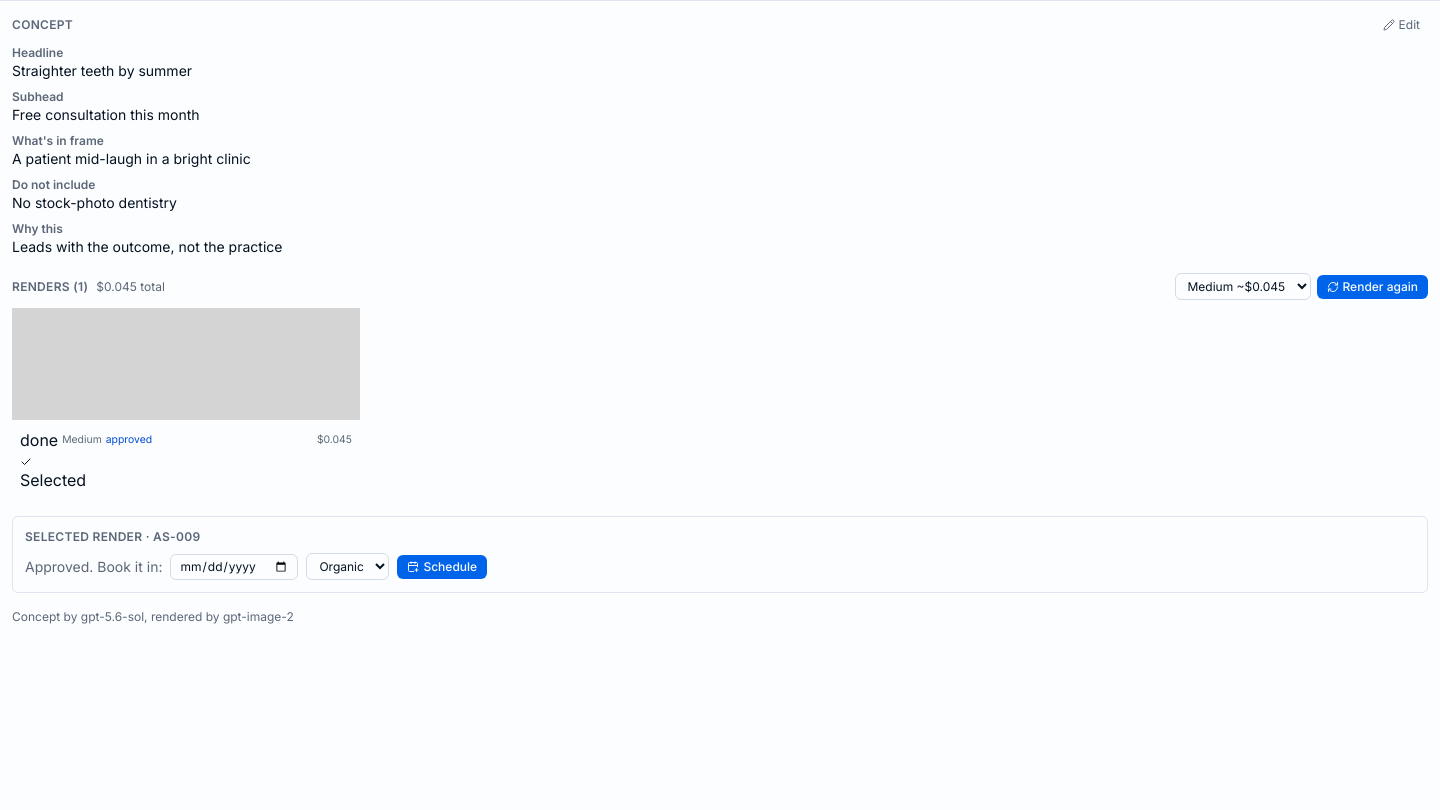
Test: ConceptWorkspace — approve and schedule › shows the paid blocker and disables scheduling when paid is selected
The width and height of the screenshot is (1440, 810).
Type "2026-10-01" into the date field at x=234, y=566, box [170,554,298,580]
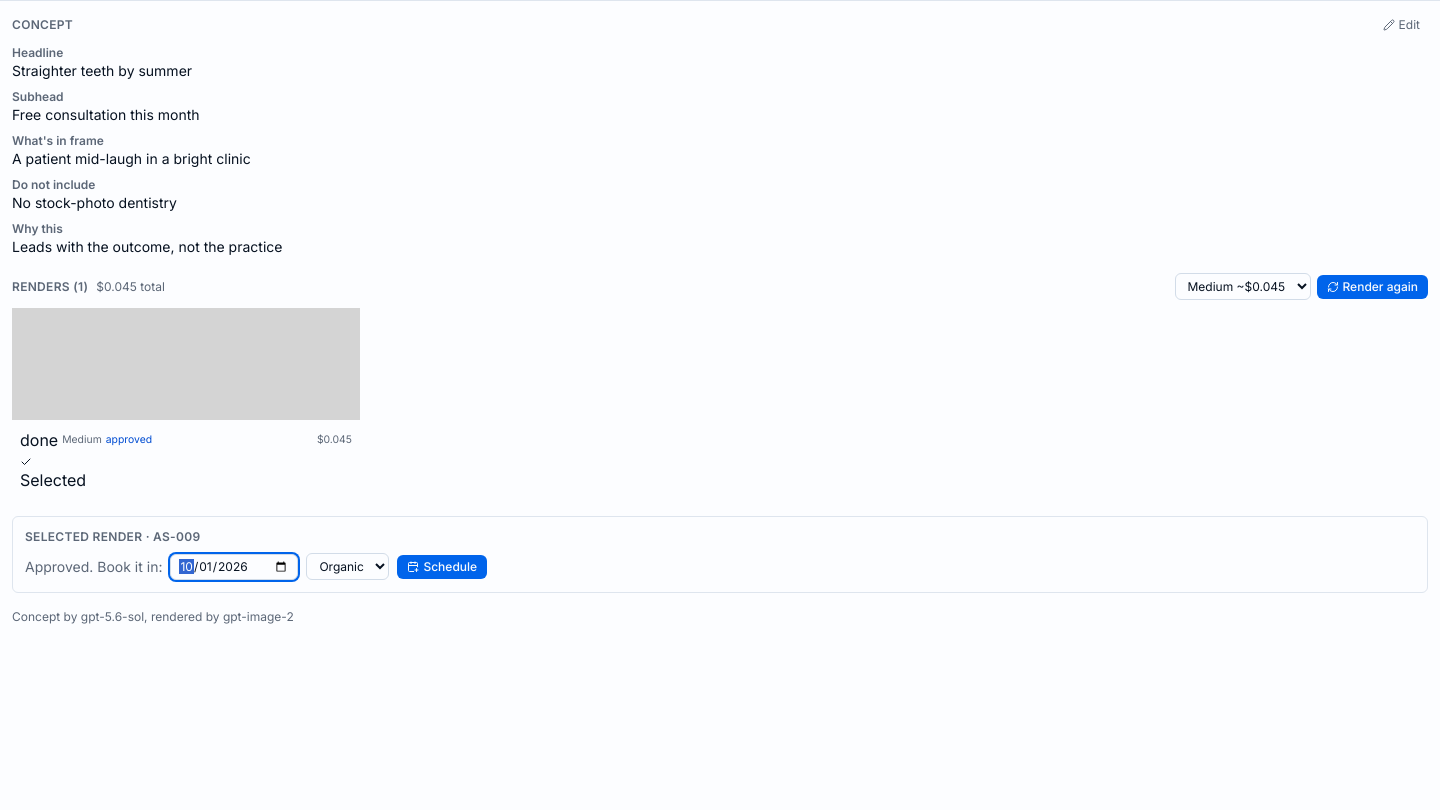
Select "Paid" in the dropdown named "Channel" at x=348, y=566, box [306,553,389,580]
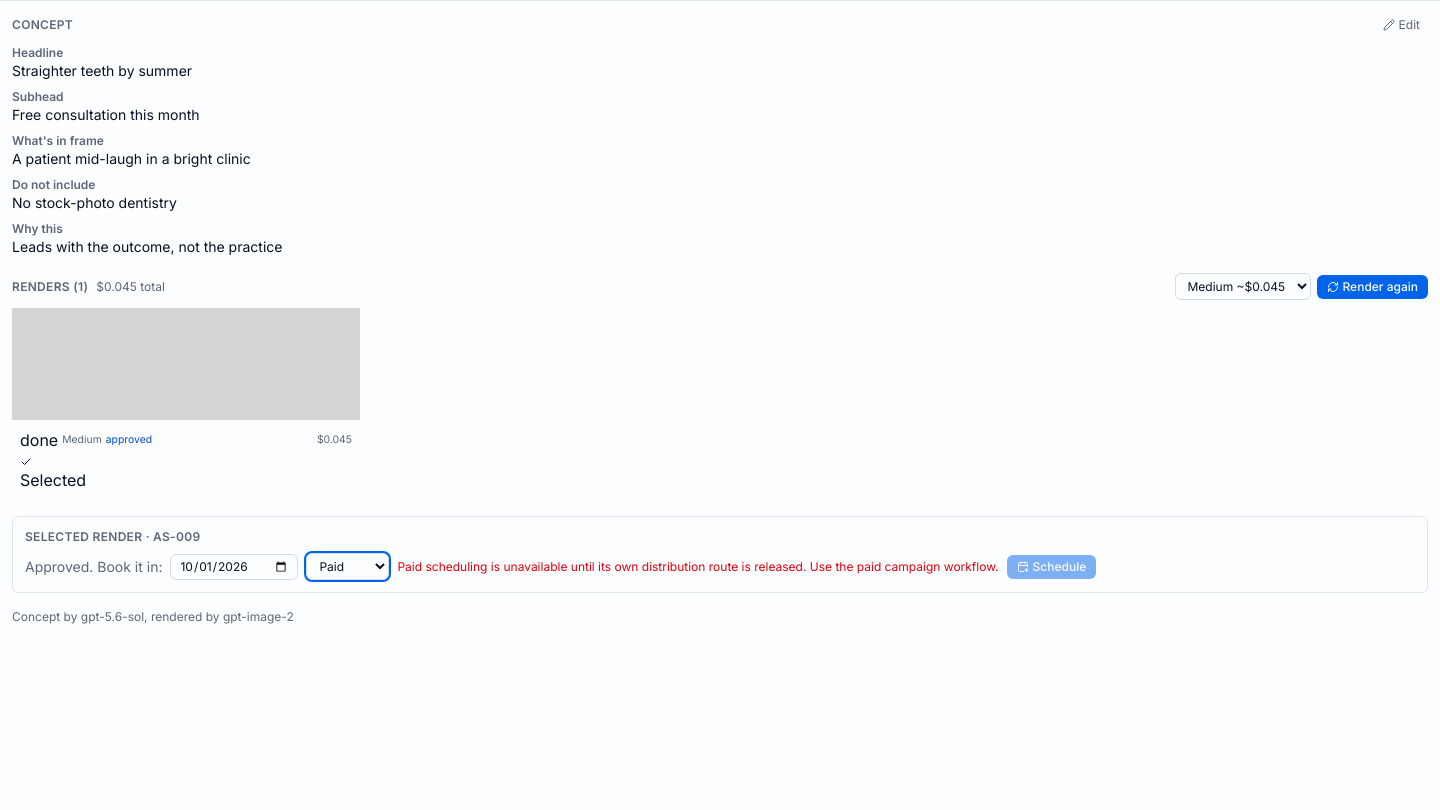
Now the message shows "Paid scheduling is unavailable", box [397,558,999,574]
Now the button "Schedule" is disabled, box [1007,554,1096,578]
